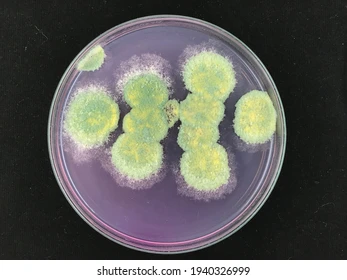Trichoderma: (78, 61, 264, 186), (123, 78, 171, 131), (65, 99, 106, 152), (236, 95, 270, 145)
